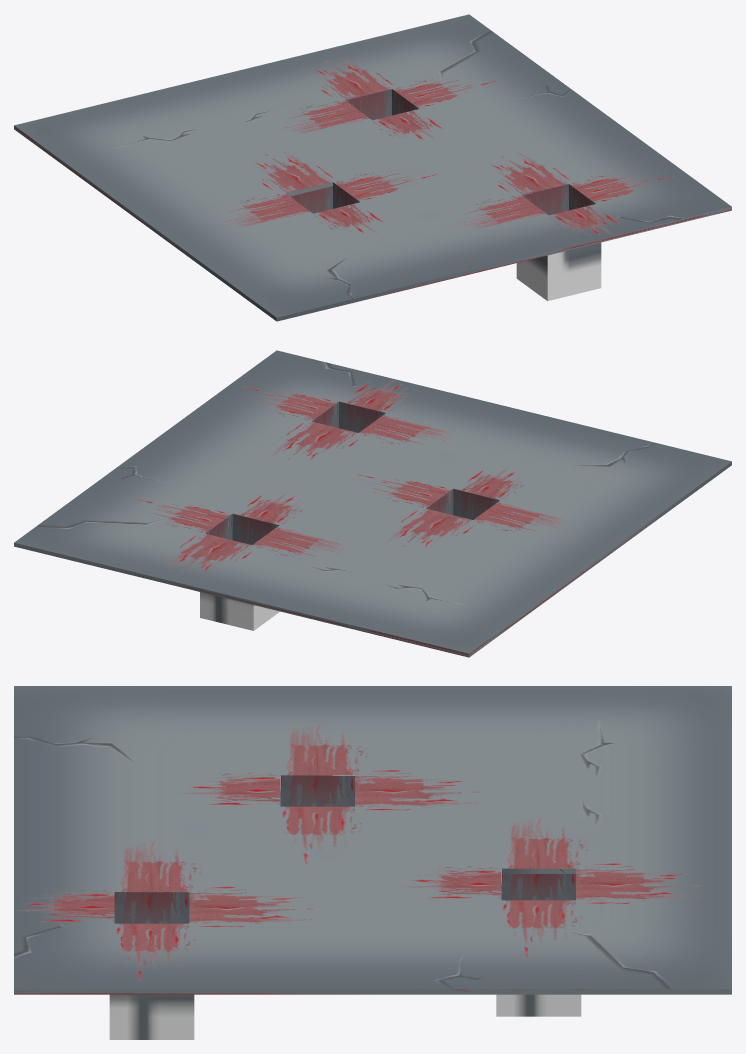
File: 13x13 2 rupe.fbx
3 views of the same model, one above another, from view 1: azimuth 30°, elevation 25°; view 2: azimuth 150°, elevation 25°; view 3: azimuth 270°, elevation 25° (orthographic). The views are drawn at different scales.
Visible parts, largest first — view 1: Cube.005, Cube_008.005, Cube_008.003, Cube_008.004; view 2: Cube.005, Cube_008.003, Cube_008.004, Cube_008.005; view 3: Cube.005, Cube_008.005, Cube_008.003, Cube_008.004.
Part boxes in pixels (x1,y1,x2,y2): Cube.005: [14, 14, 731, 321]; Cube_008.005: [516, 184, 601, 301]; Cube_008.003: [345, 89, 418, 120]; Cube_008.004: [290, 182, 359, 213]; Cube.005: [14, 350, 731, 657]; Cube_008.003: [200, 514, 279, 630]; Cube_008.004: [426, 488, 499, 519]; Cube_008.005: [312, 401, 385, 432]; Cube.005: [14, 686, 731, 994]; Cube_008.005: [109, 892, 194, 1039]; Cube_008.003: [496, 869, 581, 1016]; Cube_008.004: [280, 775, 354, 806].
Bounding box in the file's own units: 1300 × 228 × 1300.
2 materials, 2 textured.
